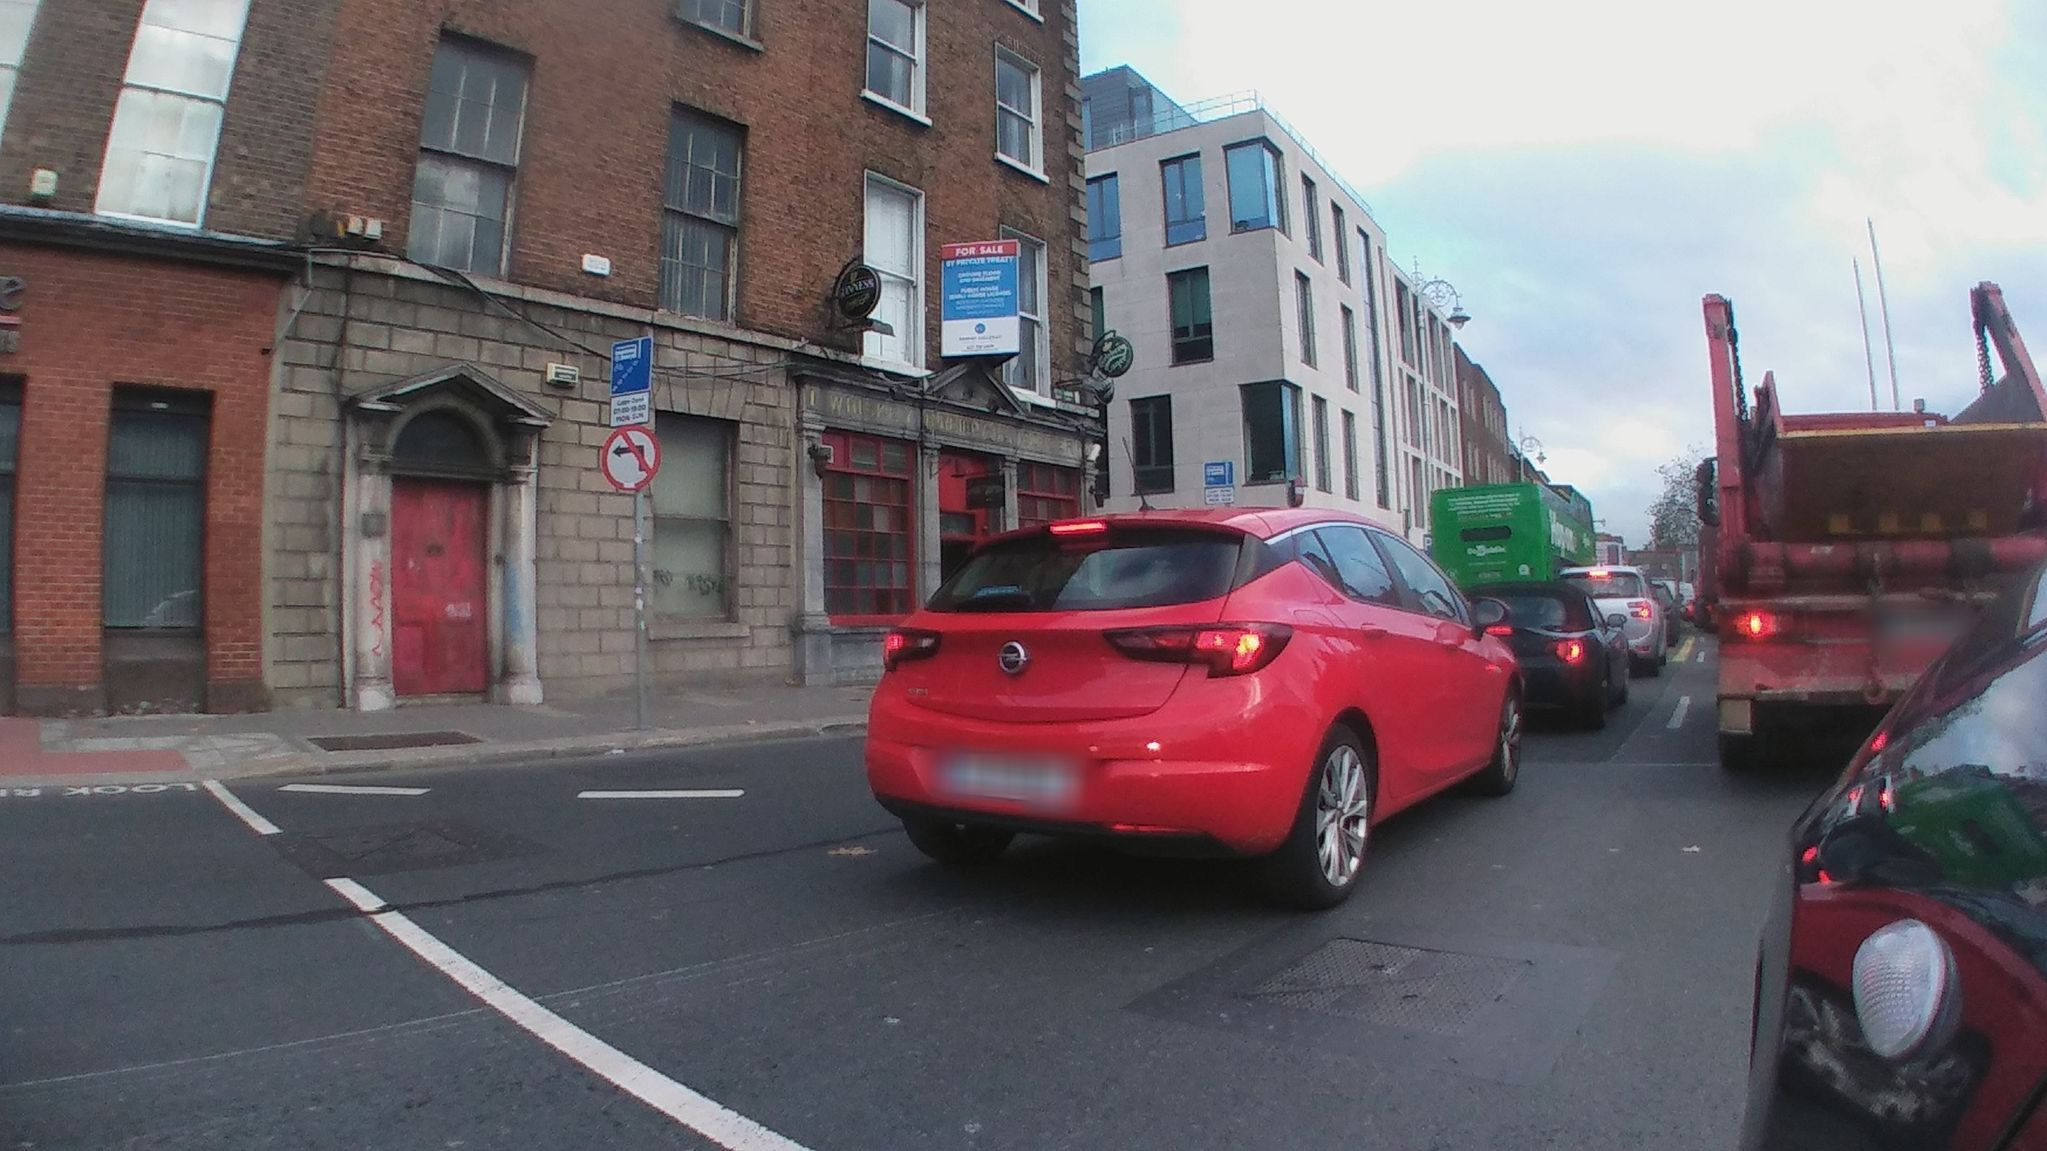property sign: (938, 228, 1022, 358)
